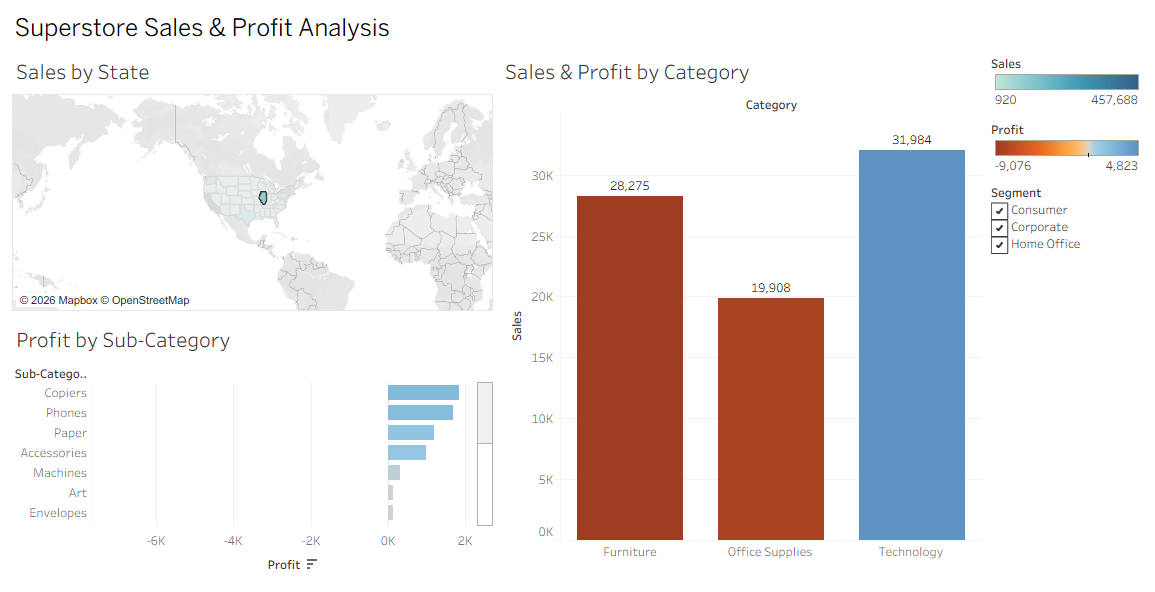

This screenshot's page, from the dashboard's own definition file:
{"tool":"tableau","page":{"name":"Dashboard 1","canvas":[1000,1000],"units":"permille","ordinal":0},"visuals":[{"type":"title","box":[7.8,13.5,984.3,65.9]},{"type":"worksheet","title":"Sales by State","mark":"Automatic","box":[7.8,79.4,413.7,453.6]},{"type":"worksheet","title":"Sales & Profit by Category","mark":"Automatic","rows":["Sales"],"cols":["Category"],"box":[421.5,79.4,413.8,907.1]},{"type":"legend","title":"Sales by State","param":"[federated.0y77q031pogzet14w9tp01otdv6d].[sum:Sales:qk]","box":[835.3,79.4,156.9,109.8]},{"type":"legend","title":"Sales & Profit by Category","param":"[federated.0y77q031pogzet14w9tp01otdv6d].[sum:Profit:qk]","box":[835.3,189.2,156.9,109.8]},{"type":"filter","title":"Sales by State","param":"[federated.0y77q031pogzet14w9tp01otdv6d].[none:Segment:nk]","box":[835.3,299,156.9,182.4]},{"type":"worksheet","title":"Profit by Sub-Category","mark":"Automatic","rows":["Sub-Category"],"cols":["Profit"],"box":[7.8,532.9,413.7,453.6]}]}

Visuals, with their boxes on the dashboard's canvas, which has no fixed pixel size, in thousandths of its width and height (x1, y1, x2, y2). These are canvas units, not pixel positions in the 1155x592 screenshot, which may show the page scaled, cropped or inside an application window:
title: box(8, 14, 992, 79)
"Sales by State" worksheet: box(8, 79, 422, 533)
"Sales & Profit by Category" worksheet: box(422, 79, 835, 986)
"Sales by State" legend: box(835, 79, 992, 189)
"Sales & Profit by Category" legend: box(835, 189, 992, 299)
"Sales by State" filter: box(835, 299, 992, 481)
"Profit by Sub-Category" worksheet: box(8, 533, 422, 986)
